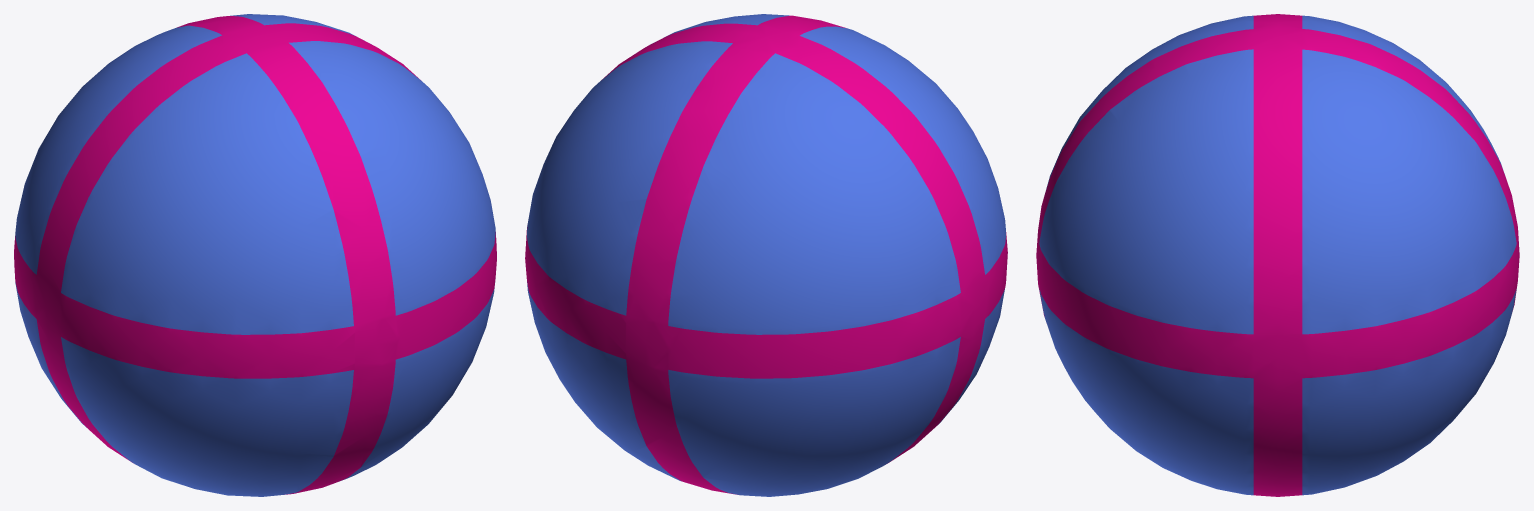
The model's file is Cross Ball.glb.
The picture shows the model from 3 angles, left to right: view 1: azimuth 30°, elevation 25°; view 2: azimuth 150°, elevation 25°; view 3: azimuth 270°, elevation 25°; orthographic projection.
Visible parts, largest first — view 1: fill, cross; view 2: fill, cross; view 3: fill, cross.
Boxes of the visible parts, x1,y1,x2,y2 form: fill: (15,14,495,496); cross: (14,16,496,494); fill: (527,14,1005,496); cross: (525,15,1007,494); fill: (1039,15,1516,495); cross: (1036,14,1519,496).
Size of the model in its own units: 2 by 2 by 2.
